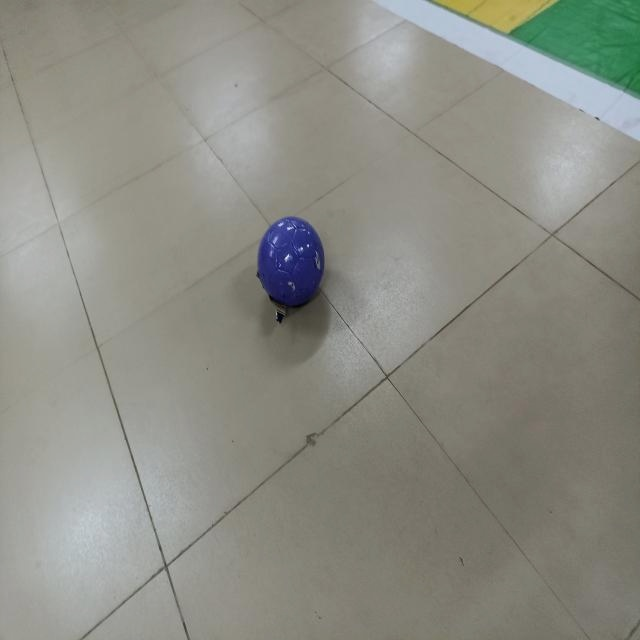purple_ball: (253, 207, 334, 318)
